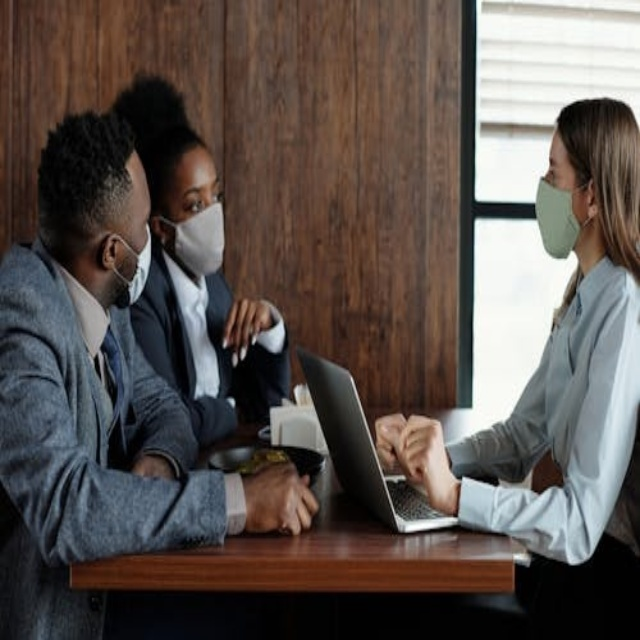Gafas: (157, 186, 227, 225)
Mascara: (178, 197, 236, 280), (534, 174, 581, 261), (106, 226, 154, 303)
Sin_gafas: (186, 180, 224, 211), (547, 157, 562, 184)
Sin_guantes: (233, 452, 319, 538), (399, 412, 457, 510), (221, 293, 275, 362), (370, 402, 410, 468)
